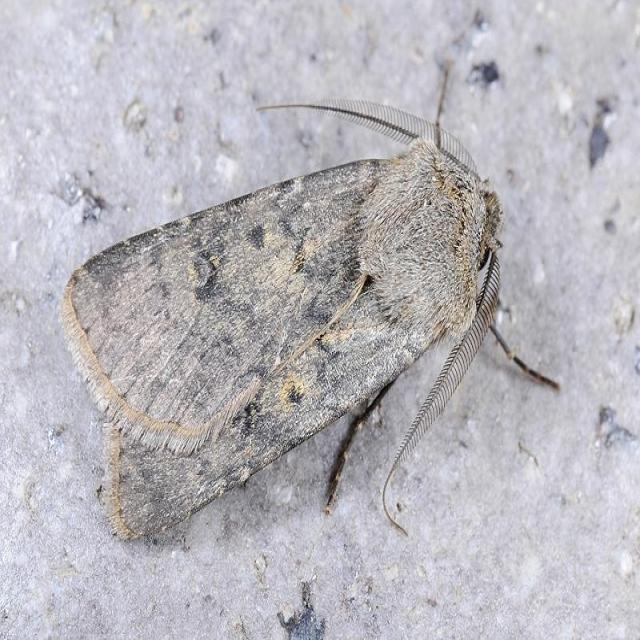black cutworm: (59, 114, 520, 548)
